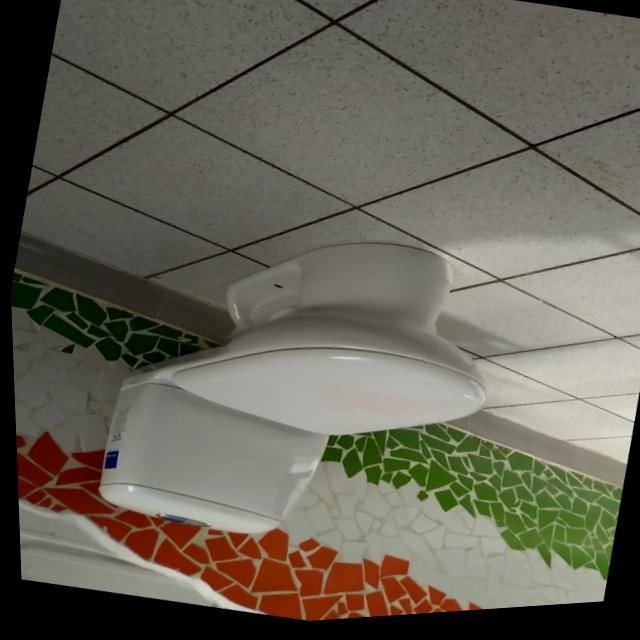toilet: (80, 191, 517, 591)
